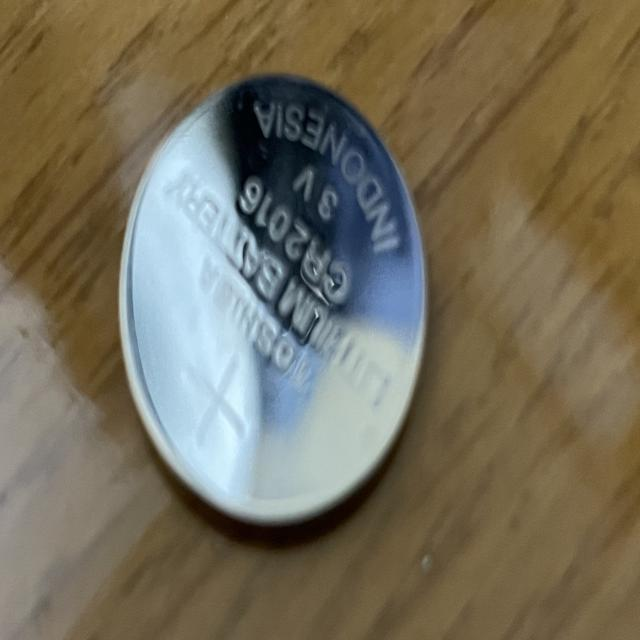COIN: (114, 69, 430, 536)
